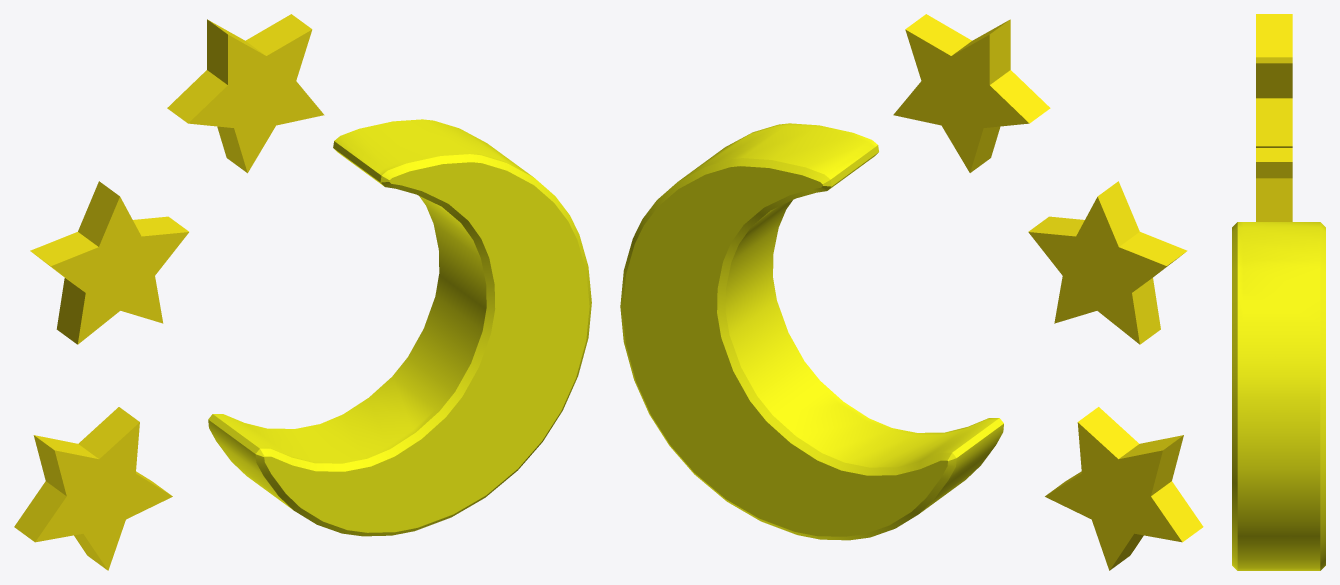
The model's file is moon.glb.
3 views of the same model, side by side, from view 1: azimuth 30°, elevation 25°; view 2: azimuth 150°, elevation 25°; view 3: azimuth 270°, elevation 25° (orthographic). The views are drawn at different scales.
Parts seen in each view (by area): view 1: moonShape_loop0, Star.002, Star, Star.001; view 2: moonShape_loop0, Star, Star.002, Star.001; view 3: moonShape_loop0, Star, Star.001.
Part boxes in pixels (box(x1,y1,x2,y2)): moonShape_loop0: box(208, 119, 591, 536); Star.002: box(14, 407, 172, 570); Star: box(167, 14, 324, 173); Star.001: box(30, 181, 188, 344); moonShape_loop0: box(620, 123, 1003, 540); Star: box(893, 14, 1050, 172); Star.002: box(1045, 407, 1203, 570); Star.001: box(1028, 181, 1187, 344); moonShape_loop0: box(1232, 222, 1325, 570); Star: box(1256, 14, 1292, 147); Star.001: box(1256, 148, 1292, 221).
Size of the model in its own units: 3.08 by 2.86 by 0.5231.
